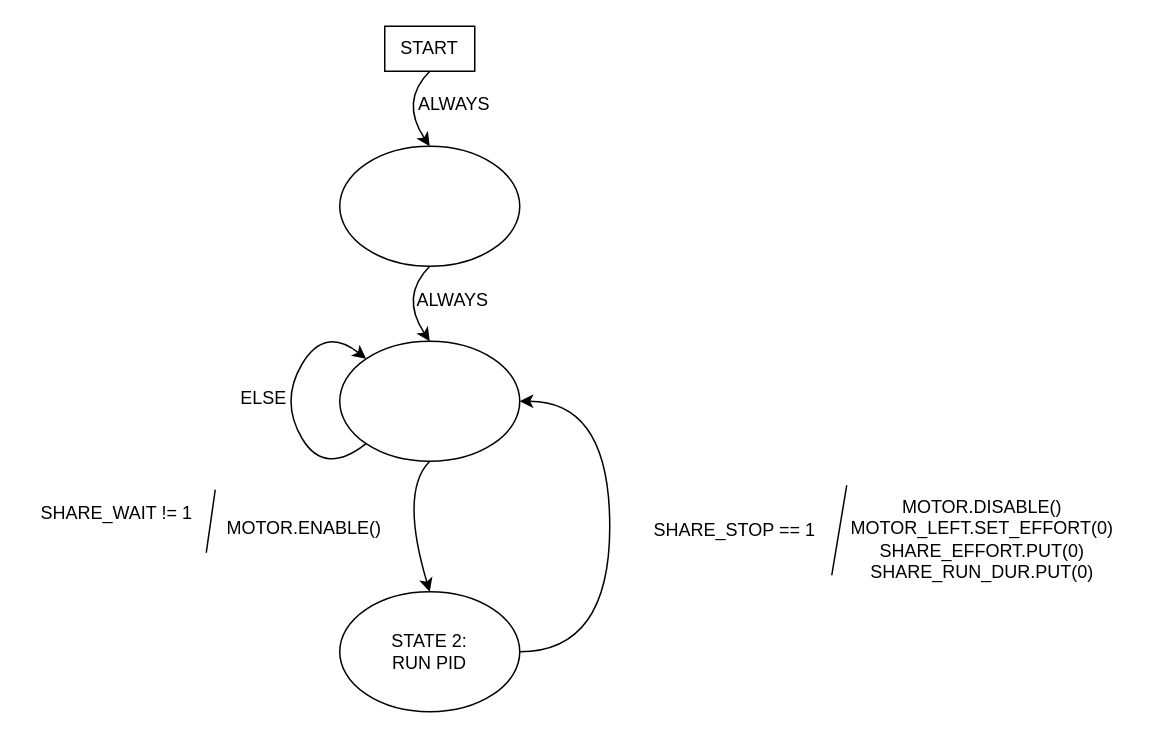
The diagram is 1157 pixels wide and 738 high, and some of its shapes have lost their labels. Here are the shapes that lost their labels. From the top down, the centre of each, then its label:
At (x=429, y=205): "STATE 0: CREATE OBJECTS".
At (x=429, y=400): "STATE 1: STANDBY".
